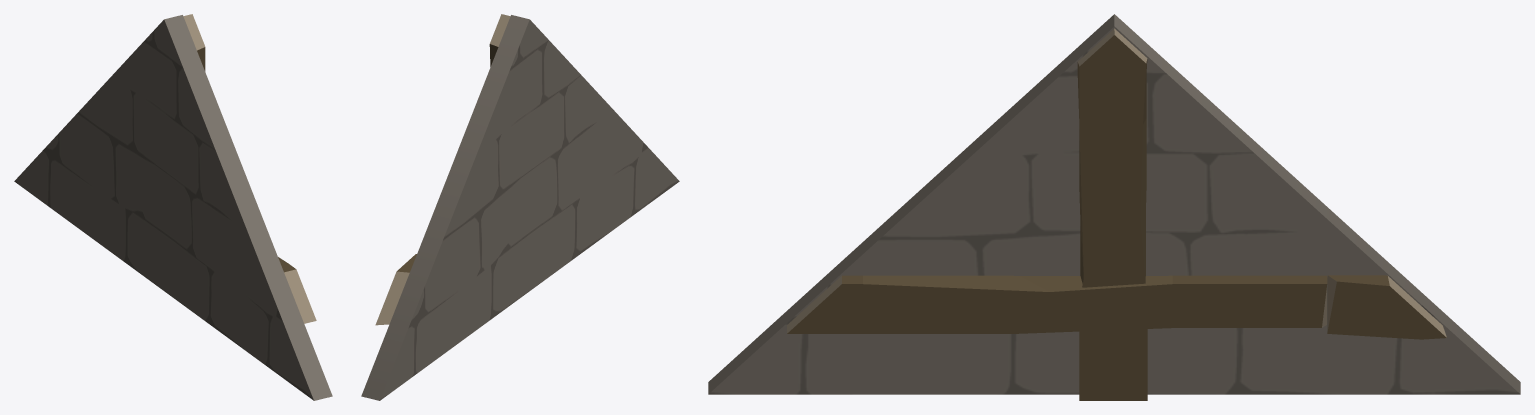
The model's file is SM_Polygonal_Stone_Tri_Top_Wall.fbx.
3 renders of one model, left to right at view 1: azimuth 30°, elevation 25°; view 2: azimuth 150°, elevation 25°; view 3: azimuth 270°, elevation 25°, orthographic. The views are drawn at different scales.
Parts seen in each view (by area): view 1: SM_Polygonal_Stone_Tri_Top_Wall_LOD0; view 2: SM_Polygonal_Stone_Tri_Top_Wall_LOD0; view 3: SM_Polygonal_Stone_Tri_Top_Wall_LOD0.
Part boxes in pixels (box(x1,y1,x2,y2)): SM_Polygonal_Stone_Tri_Top_Wall_LOD0: box(14, 14, 332, 400); SM_Polygonal_Stone_Tri_Top_Wall_LOD0: box(361, 14, 679, 400); SM_Polygonal_Stone_Tri_Top_Wall_LOD0: box(708, 14, 1520, 400).
Size of the model in its own units: 18.27 by 300 by 150.
Materials: 1 (1 with a texture image).
